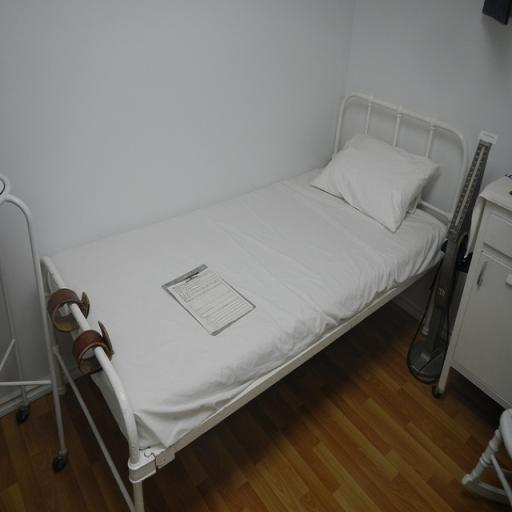bed: (36, 104, 458, 498)
